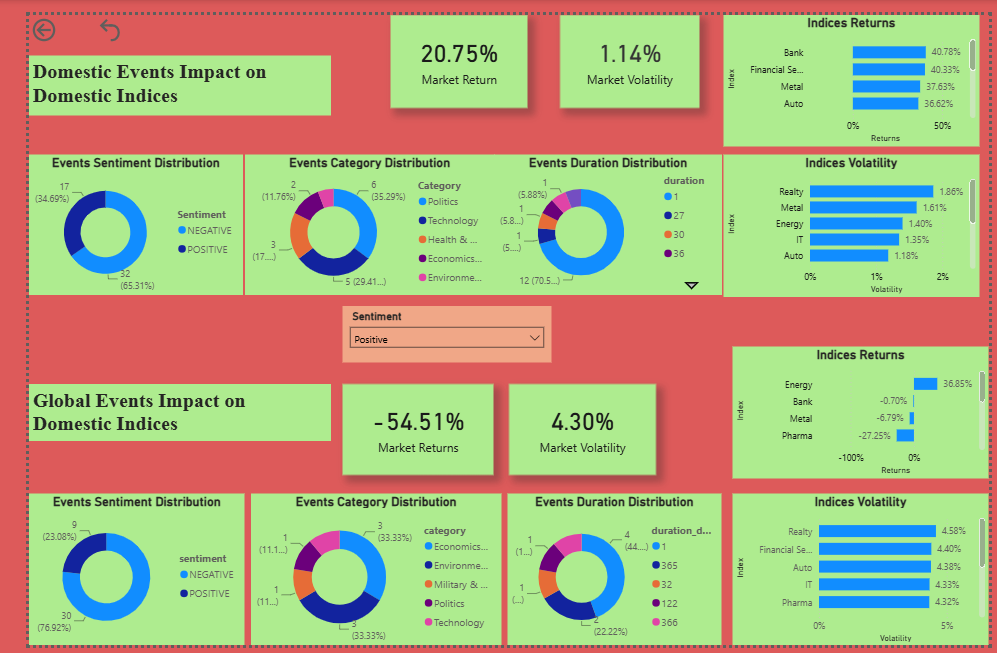

What the dashboard file says about the page in this screenshot:
{"tool":"powerbi","page":{"name":"Events_Analysis","canvas":[1280,840],"ordinal":4},"visuals":[{"type":"donutChart","title":"Events Category Distribution","fields":{"Y":["CountNonNull(dim_news.Category)"],"Category":["dim_news.Category"]},"box":[287.5,185,332.5,187.5],"z":0},{"type":"donutChart","title":"Events Category Distribution","fields":{"Y":["CountNonNull(dim_events.category)"],"Category":["dim_events.category"]},"box":[296.2,637.5,333.8,202.5],"z":1000},{"type":"donutChart","title":"Events Sentiment Distribution","fields":{"Category":["dim_events.sentiment"],"Y":["CountNonNull(dim_events.sentiment)"]},"box":[0,637.5,287.5,202.5],"z":2000},{"type":"donutChart","title":"Events Sentiment Distribution","fields":{"Y":["CountNonNull(dim_news.Sentiment)"],"Category":["dim_news.Sentiment"]},"box":[0,185,285,187.5],"z":3000},{"type":"donutChart","title":"Events Duration Distribution","fields":{"Y":["CountNonNull(dim_events.duration_days)"],"Category":["dim_events.duration_days"]},"box":[638.8,637.5,285,202.5],"z":4000},{"type":"donutChart","title":"Events Duration Distribution","fields":{"Category":["dim_news.duration"],"Y":["CountNonNull(dim_news.duration)"]},"box":[620,185.7,304.3,187.1],"z":5000},{"type":"advanceCardE03760C5AB684758B56AA29F9E6C257B","fields":{"mainMeasure":["dim_news.Market_Return_Domestic"]},"box":[482.9,0,182.9,124.3],"z":6000},{"type":"advanceCardE03760C5AB684758B56AA29F9E6C257B","fields":{"mainMeasure":["dim_news.Market_Volatility_Domestic"]},"box":[708.6,0,185.7,124.3],"z":7000},{"type":"textbox","box":[0,54.3,402.9,80],"z":8000},{"type":"advanceCardE03760C5AB684758B56AA29F9E6C257B","fields":{"mainMeasure":["dim_events.Market_Return_Global"]},"box":[418.6,491.4,201.4,121.4],"z":9000},{"type":"advanceCardE03760C5AB684758B56AA29F9E6C257B","fields":{"mainMeasure":["dim_events.Market_Volatility_Global"]},"box":[640,491.4,195.7,121.4],"z":10000},{"type":"barChart","title":" Indices Returns","fields":{"Y":["dim_news.Selected Index Return Domestic"],"Category":["Sector Table.Sector"]},"box":[925,0,341.2,175],"z":11000},{"type":"clusteredBarChart","title":"Indices Volatility","fields":{"Category":["Sector Table.Sector"],"Y":["dim_news.Selected Index Volatility Domestic"]},"box":[925,185,341.2,190],"z":12000},{"type":"textbox","box":[0,491.2,402.5,76.2],"z":13000},{"type":"slicer","fields":{"Values":["dim_Sentiment.Sentiment"]},"box":[418.8,388.8,278.8,75],"z":14000},{"type":"barChart","title":"Indices Returns","fields":{"Category":["Sector Table.Sector"],"Y":["dim_events.Selected Index Return Global"]},"box":[938.6,442.9,341.4,175.7],"z":15000},{"type":"clusteredBarChart","title":"Indices Volatility","fields":{"Category":["Sector Table.Sector"],"Y":["dim_events.Selected Index Volatility Global"]},"box":[938.6,637.1,341.4,202.9],"z":16000},{"type":"actionButton","box":[0,0,58.8,40],"z":17000},{"type":"actionButton","box":[88.8,0,63.8,40],"z":18000}]}

Visuals, with their boxes in screenshot pixels (x1, y1, x2, y2), scaled from the page's 1280x840 canvas onto the 997x653 screenshot:
"Events Category Distribution" donutChart: (left=224, top=144, right=483, bottom=290)
"Events Category Distribution" donutChart: (left=231, top=496, right=491, bottom=652)
"Events Sentiment Distribution" donutChart: (left=0, top=496, right=224, bottom=652)
"Events Sentiment Distribution" donutChart: (left=0, top=144, right=222, bottom=290)
"Events Duration Distribution" donutChart: (left=498, top=496, right=720, bottom=652)
"Events Duration Distribution" donutChart: (left=483, top=144, right=720, bottom=290)
advanceCardE03760C5AB684758B56AA29F9E6C257B - dim_news.Market_Return_Domestic: (left=376, top=0, right=519, bottom=97)
advanceCardE03760C5AB684758B56AA29F9E6C257B - dim_news.Market_Volatility_Domestic: (left=552, top=0, right=697, bottom=97)
textbox: (left=0, top=42, right=314, bottom=104)
advanceCardE03760C5AB684758B56AA29F9E6C257B - dim_events.Market_Return_Global: (left=326, top=382, right=483, bottom=476)
advanceCardE03760C5AB684758B56AA29F9E6C257B - dim_events.Market_Volatility_Global: (left=498, top=382, right=651, bottom=476)
" Indices Returns" barChart: (left=720, top=0, right=986, bottom=136)
"Indices Volatility" clusteredBarChart: (left=720, top=144, right=986, bottom=292)
textbox: (left=0, top=382, right=314, bottom=441)
slicer - dim_Sentiment.Sentiment: (left=326, top=302, right=543, bottom=361)
"Indices Returns" barChart: (left=731, top=344, right=996, bottom=481)
"Indices Volatility" clusteredBarChart: (left=731, top=495, right=996, bottom=652)
actionButton: (left=0, top=0, right=46, bottom=31)
actionButton: (left=69, top=0, right=119, bottom=31)
